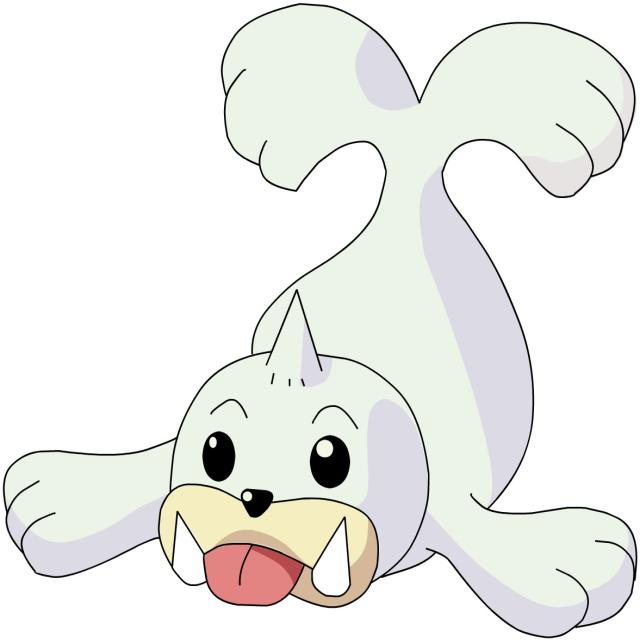Seel: (147, 0, 594, 582)
